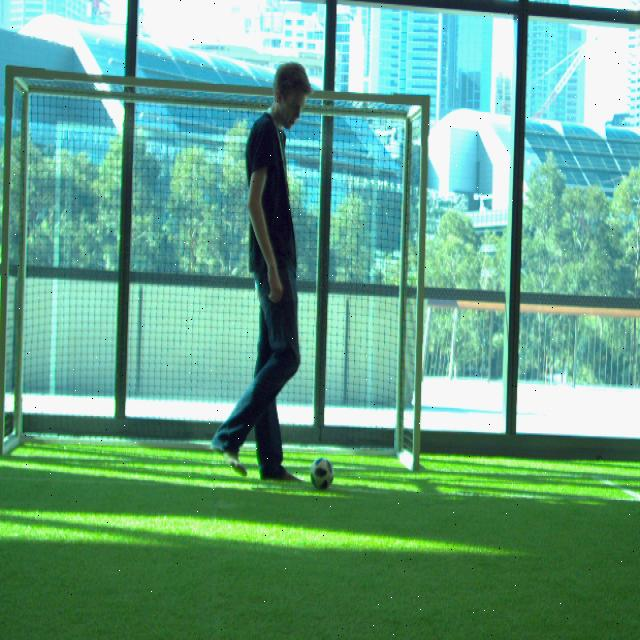ball: (310, 457, 334, 492)
goalpost: (412, 95, 429, 469), (0, 65, 15, 453)
